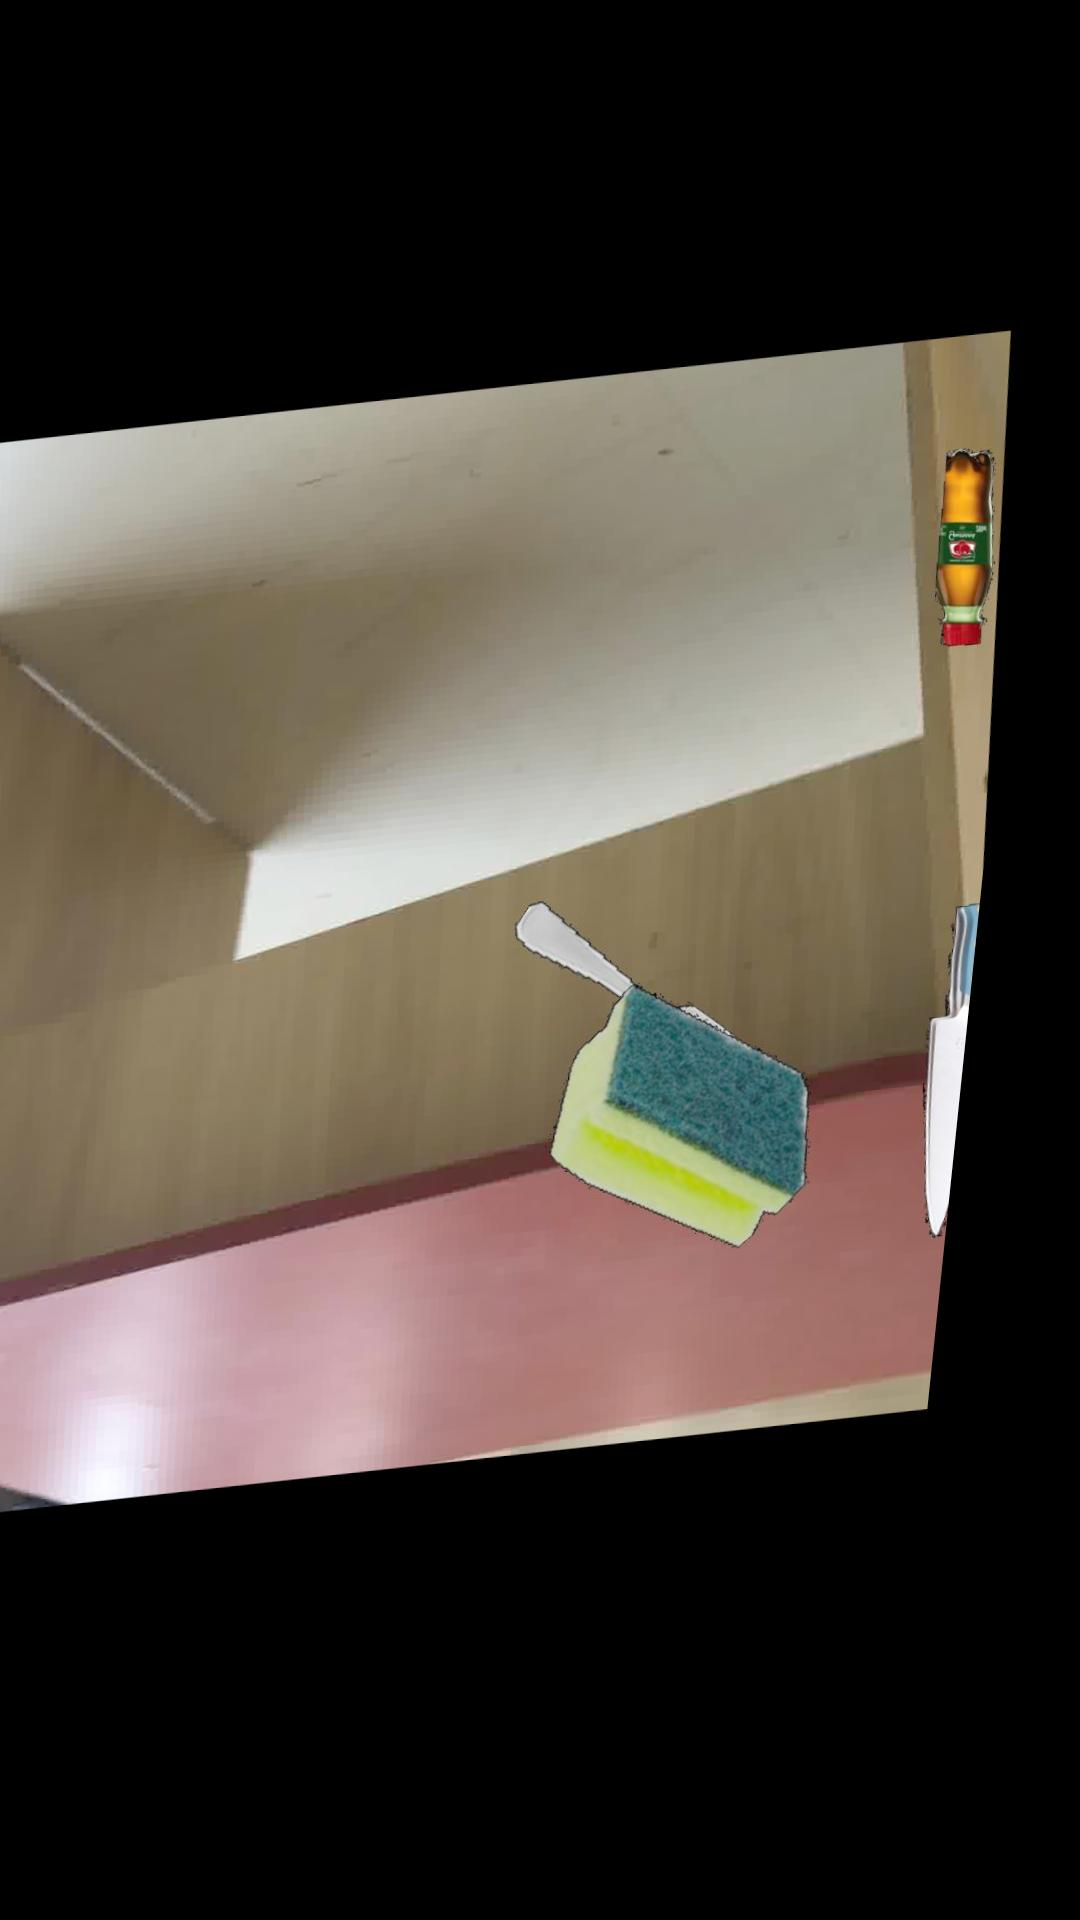fork: (533, 907, 754, 1044)
guarana: (947, 460, 1005, 658)
knife: (945, 915, 1001, 1250)
sponge: (572, 992, 832, 1257)
